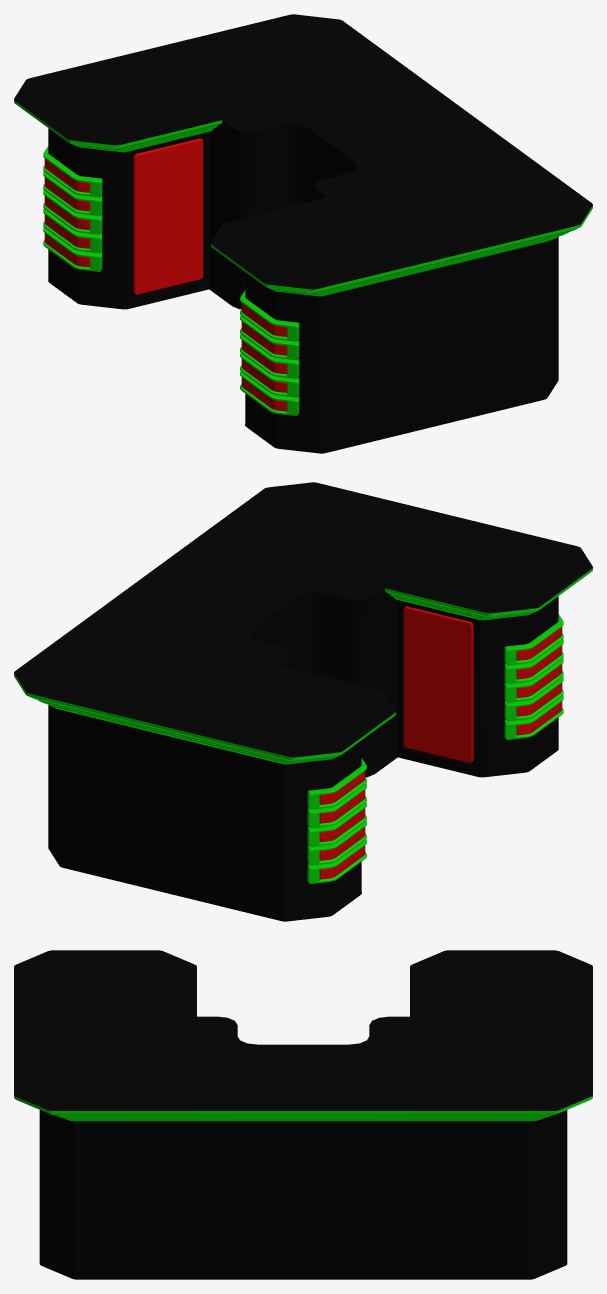
The model's file is SM_Modular_Control 1.fbx.
3 renders of one model, top to bottom at view 1: azimuth 30°, elevation 25°; view 2: azimuth 150°, elevation 25°; view 3: azimuth 270°, elevation 25°, orthographic.
Parts seen in each view (by area): view 1: SM_Modular_Control; view 2: SM_Modular_Control; view 3: SM_Modular_Control.
Part boxes in pixels (x1,y1,x2,y2): SM_Modular_Control: [14, 14, 592, 453]; SM_Modular_Control: [14, 482, 592, 921]; SM_Modular_Control: [14, 950, 592, 1279].
Bounding box in the file's own units: 577 × 300 × 878.
